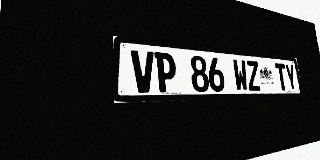6: (207, 57, 225, 92)
8: (190, 55, 210, 92)
P: (154, 52, 177, 93)
T: (275, 63, 288, 90)
V: (131, 50, 156, 93)
W: (232, 59, 249, 91)
Y: (284, 64, 297, 90)
Z: (246, 60, 261, 91)
